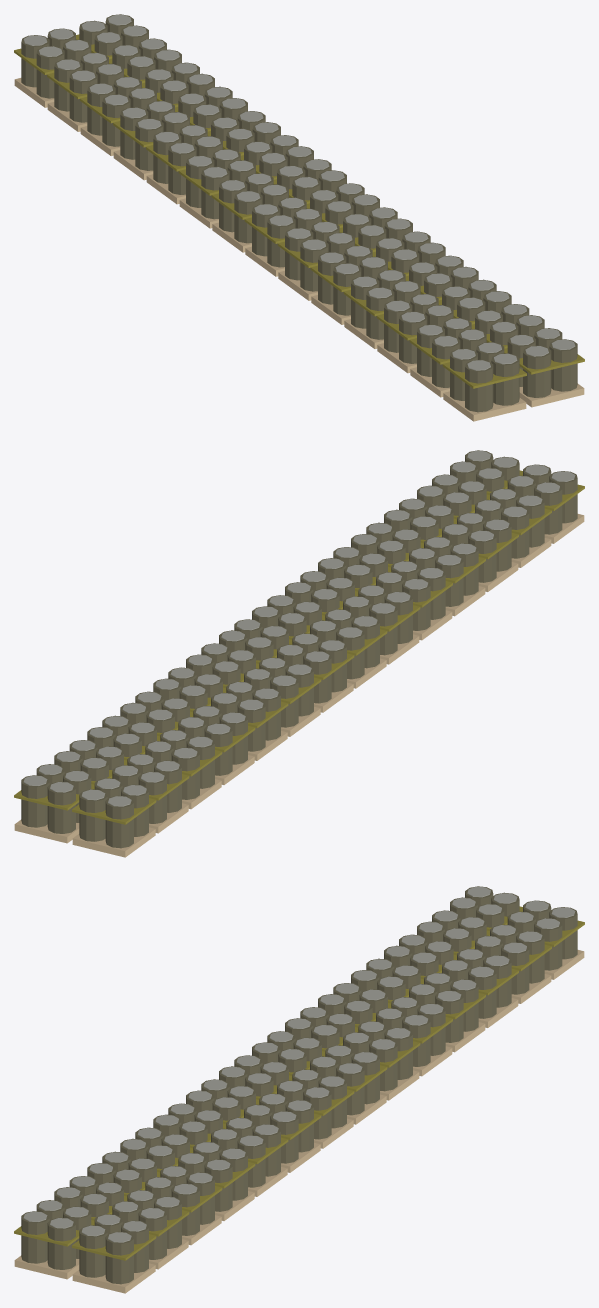
Rendered from SM_CargaCombustible_Lleno_LOD0.fbx.
The picture shows the model from 3 angles, top to bottom: view 1: azimuth 30°, elevation 25°; view 2: azimuth 150°, elevation 25°; view 3: azimuth 330°, elevation 25°; orthographic projection.
Parts seen in each view (by area): view 1: SM_carga_vagon_v5_LOD0; view 2: SM_carga_vagon_v5_LOD0; view 3: SM_carga_vagon_v5_LOD0.
Part boxes in pixels (left/top/right/bottom): SM_carga_vagon_v5_LOD0: left=14, top=14, right=584, bottom=421; SM_carga_vagon_v5_LOD0: left=14, top=450, right=584, bottom=857; SM_carga_vagon_v5_LOD0: left=14, top=886, right=584, bottom=1293.
Bounding box in the file's own units: 2.54 × 1.04 × 18.12.
